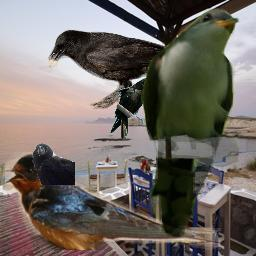Crow: (46, 29, 211, 109), (110, 77, 157, 140), (32, 143, 75, 185)
Cuckoo: (141, 8, 240, 237)
Swallow: (5, 152, 221, 250)
